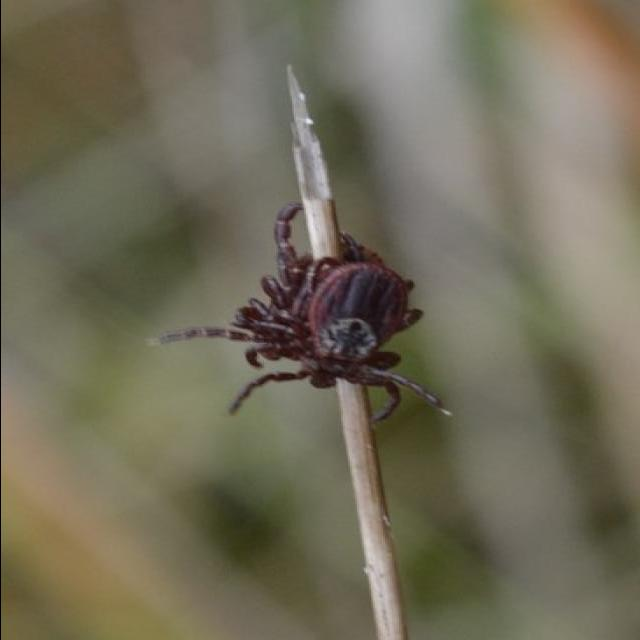Dermacentor Reticulatus-F: (160, 261, 423, 387)
